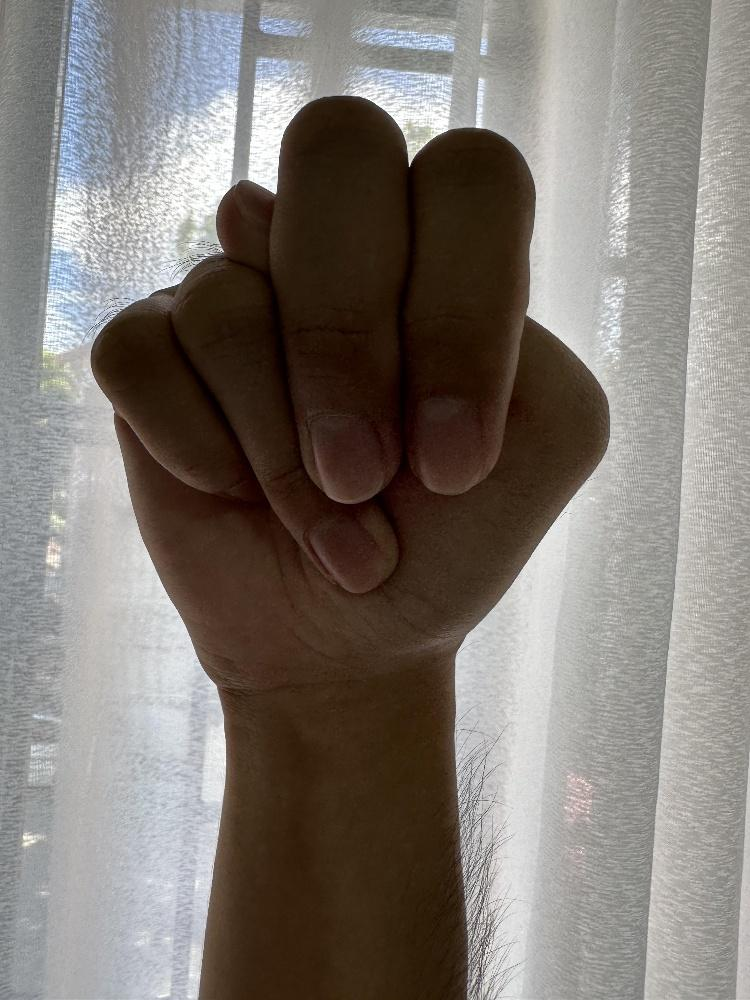n: (87, 89, 615, 694)
